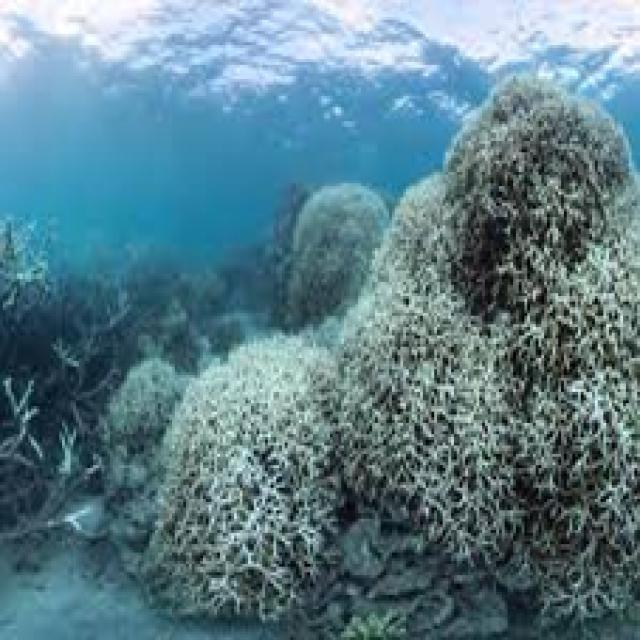Dead Coral: (0, 181, 136, 553), (441, 59, 640, 306), (257, 133, 393, 319)
